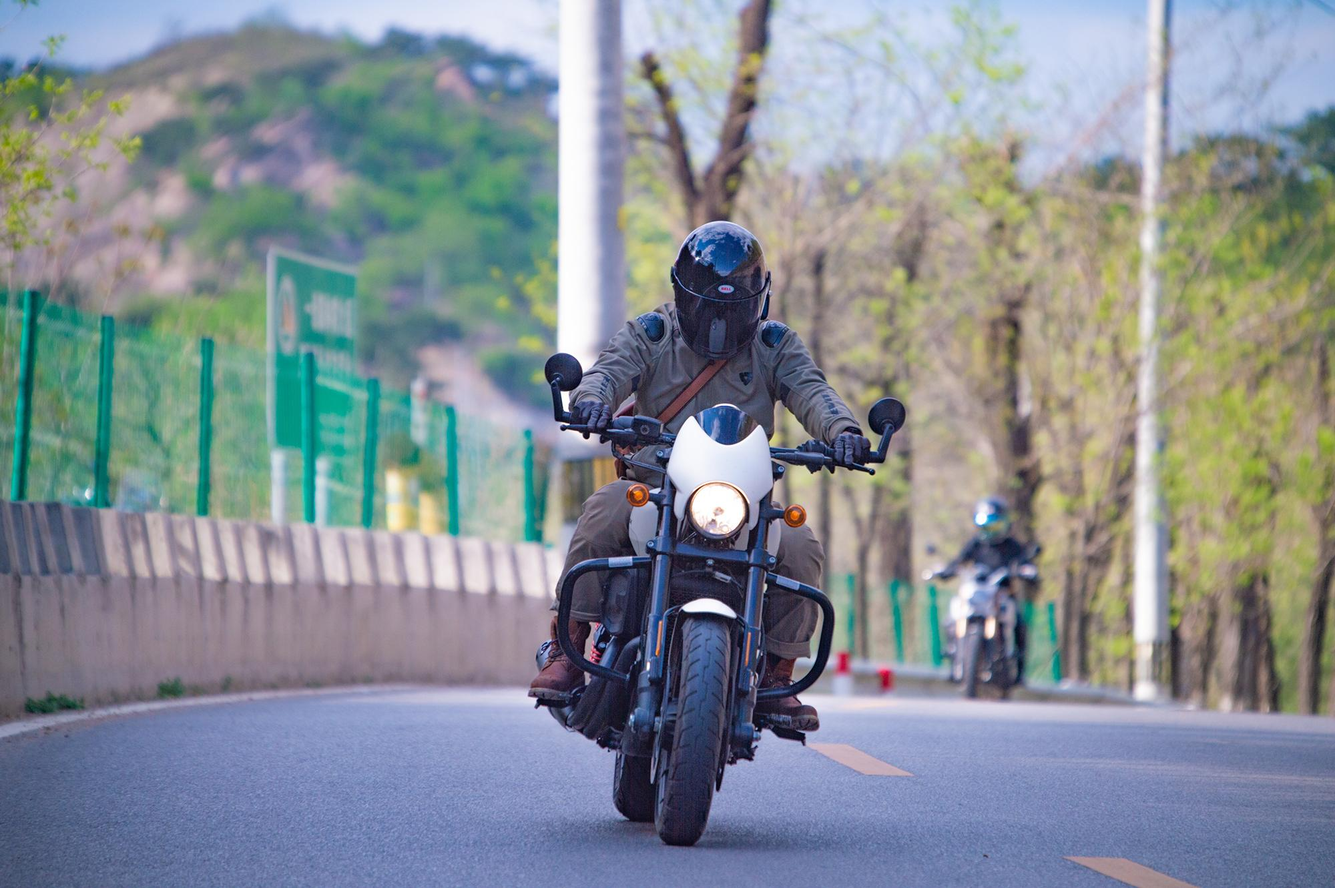helmet: (669, 219, 774, 361)
